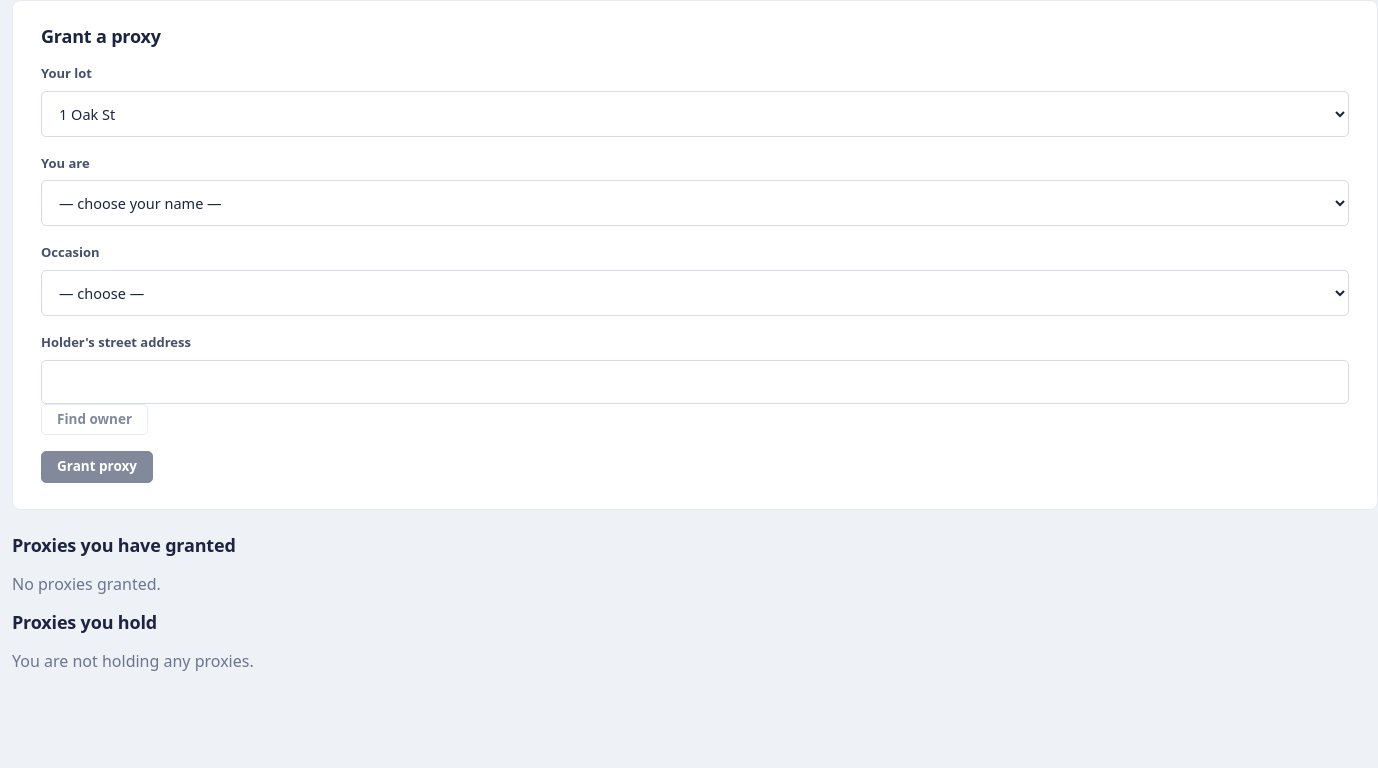
Test case: ProxyManager › keeps the lot selected and clears the occasion after a successful grant
Select "1 Oak St" in the dropdown labelled "Your lot" at (695, 114), box [41,91,1349,137]
Select "Jane Doe" in the dropdown labelled "You are" at (695, 203), box [41,180,1349,226]
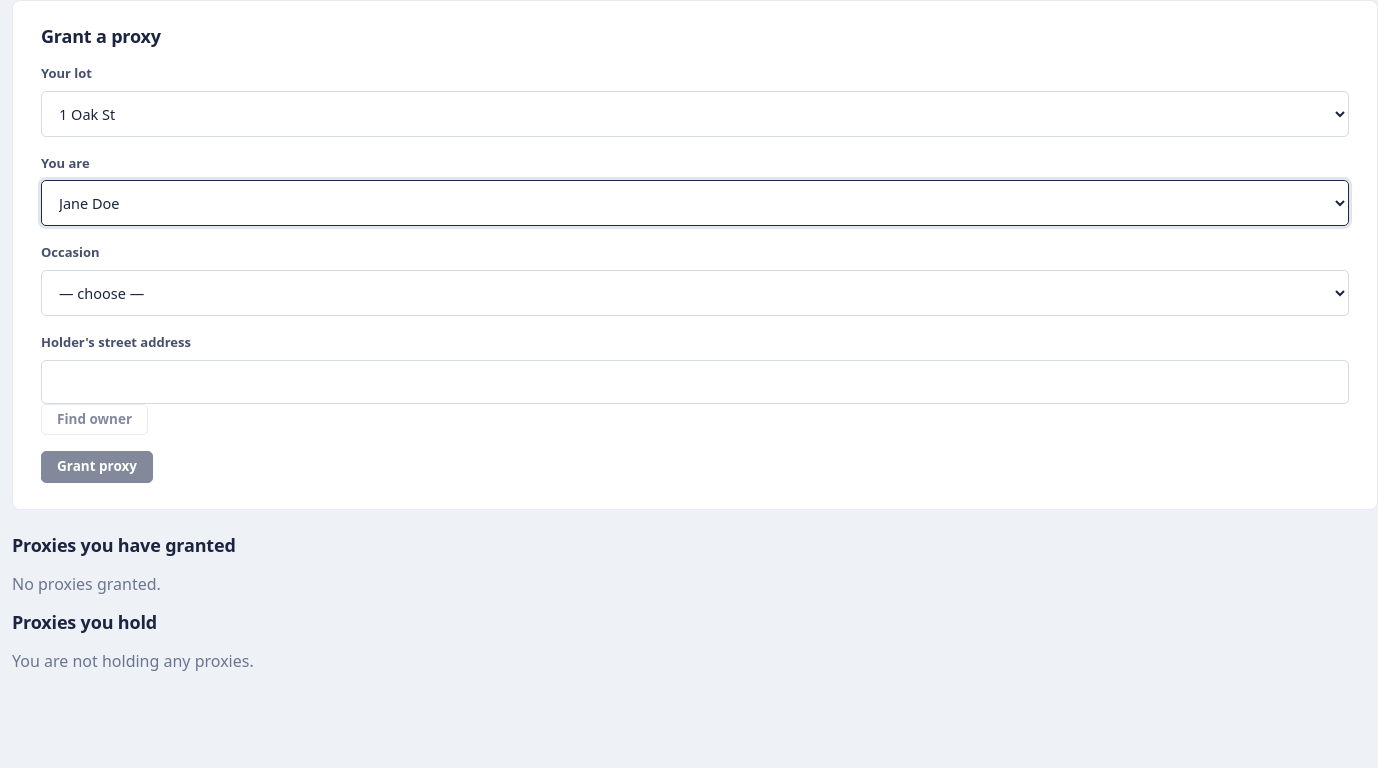
Select "2026-09-01 — Annual meeting" in the dropdown labelled "Occasion" at (695, 293), box [41,270,1349,316]
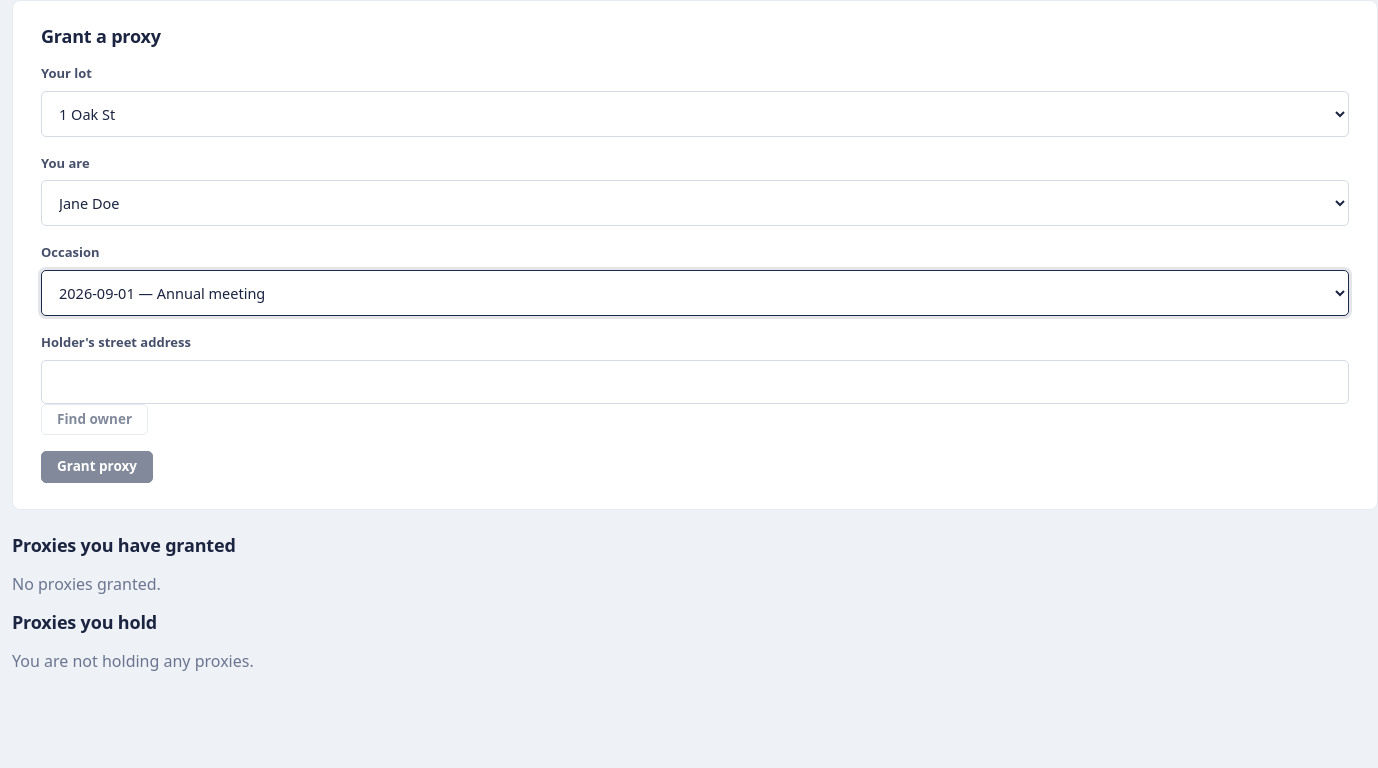
Type "2 Oak St" into the field labelled "Holder's street address".
click(695, 382); type("2 Oak St")  # box [41,360,1349,404]
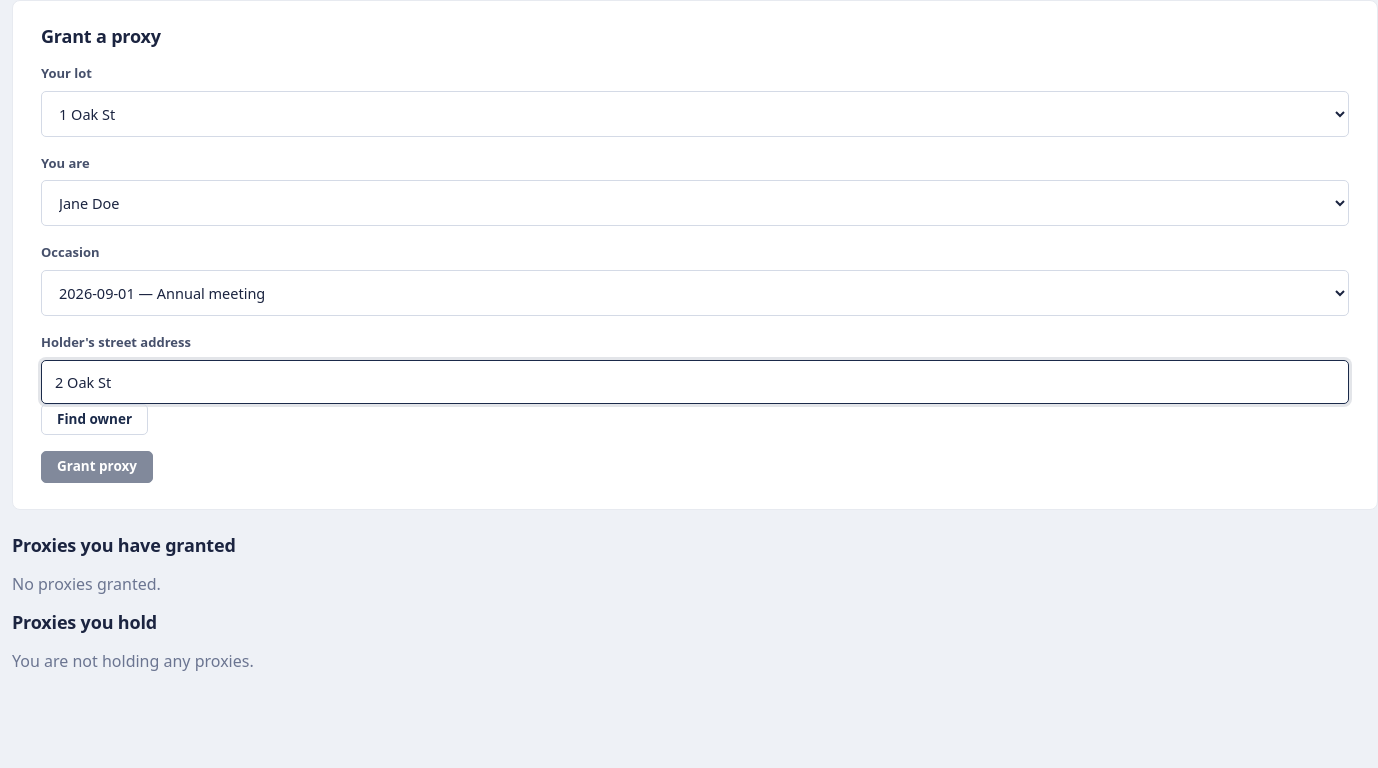
Click the button "Find owner".
click(95, 420)  # box [41,404,148,436]
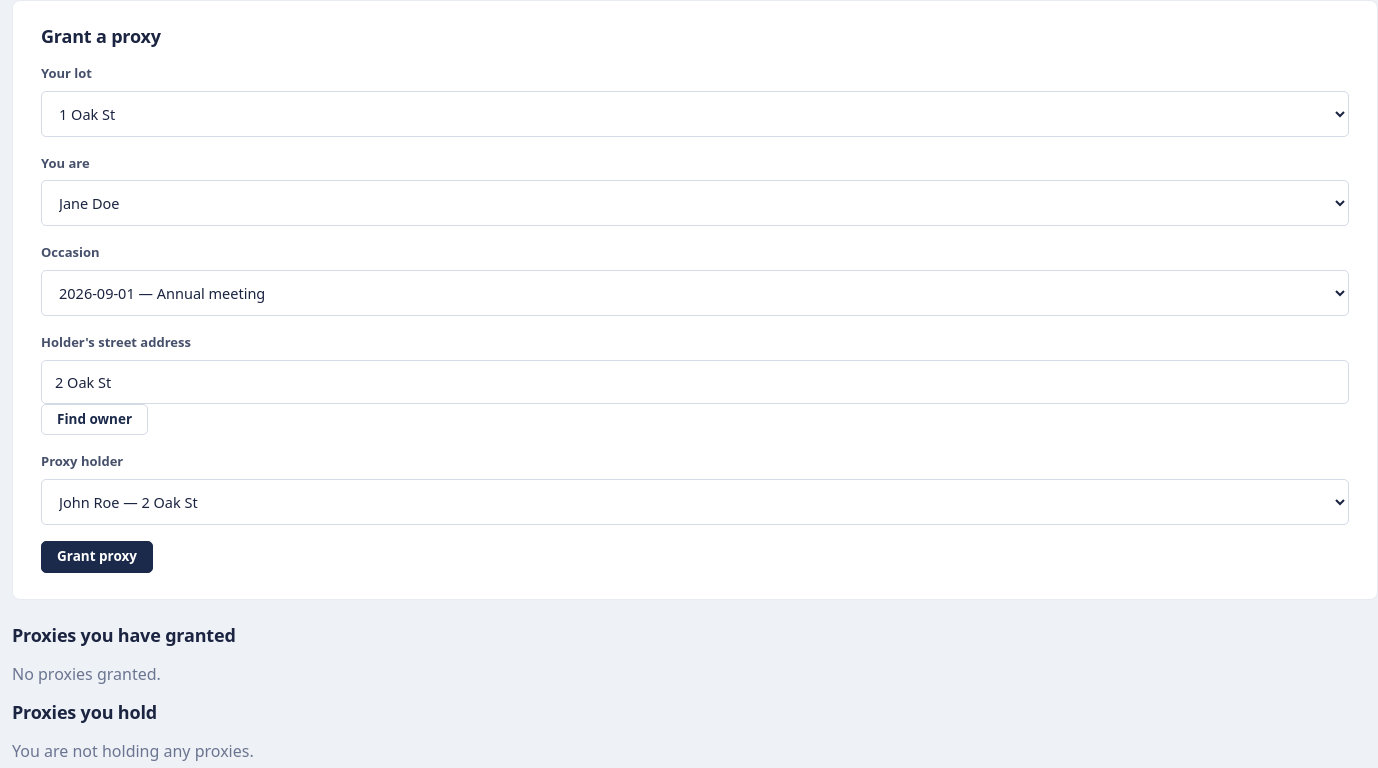
Select "John Roe — 2 Oak St" in the dropdown labelled "Proxy holder" at (695, 502), box [41,479,1349,525]
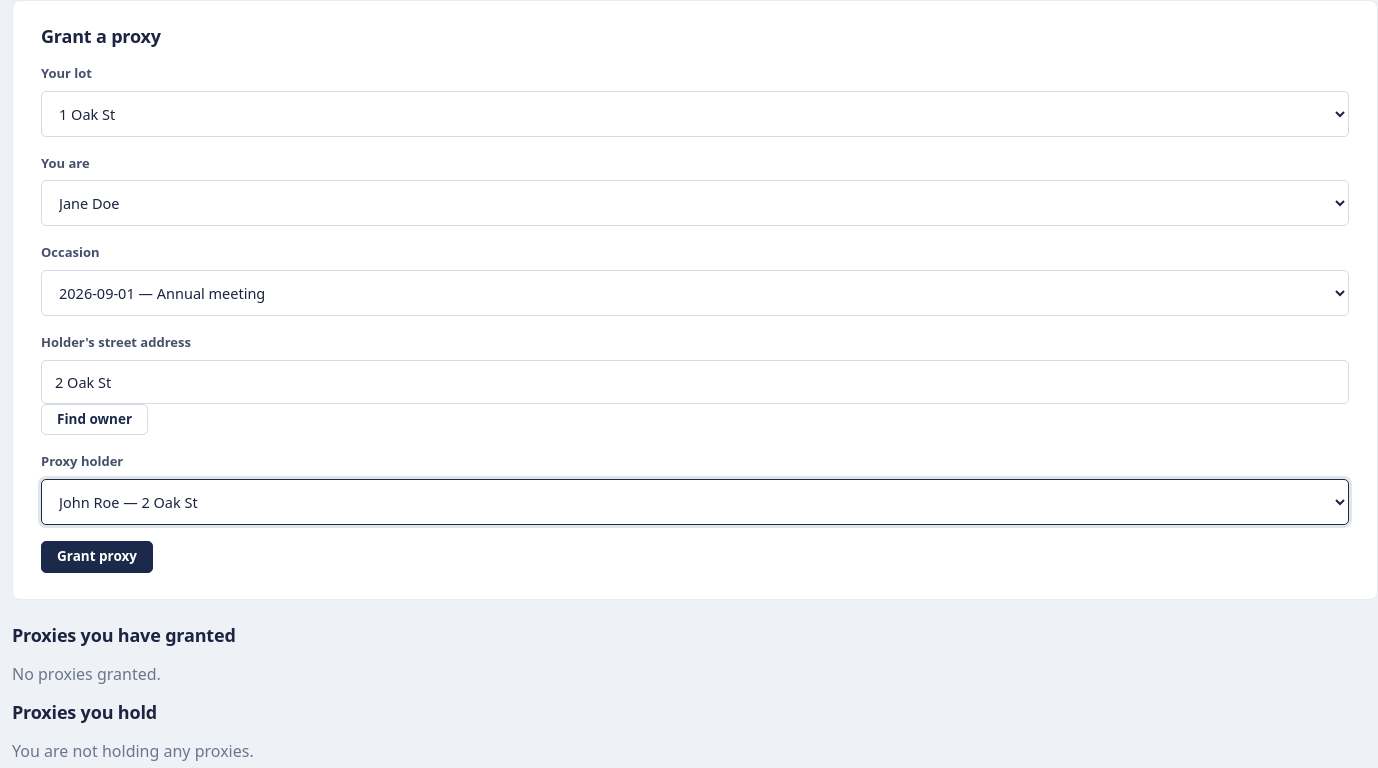
Click the button "Grant proxy".
click(97, 557)  # box [41,541,153,573]
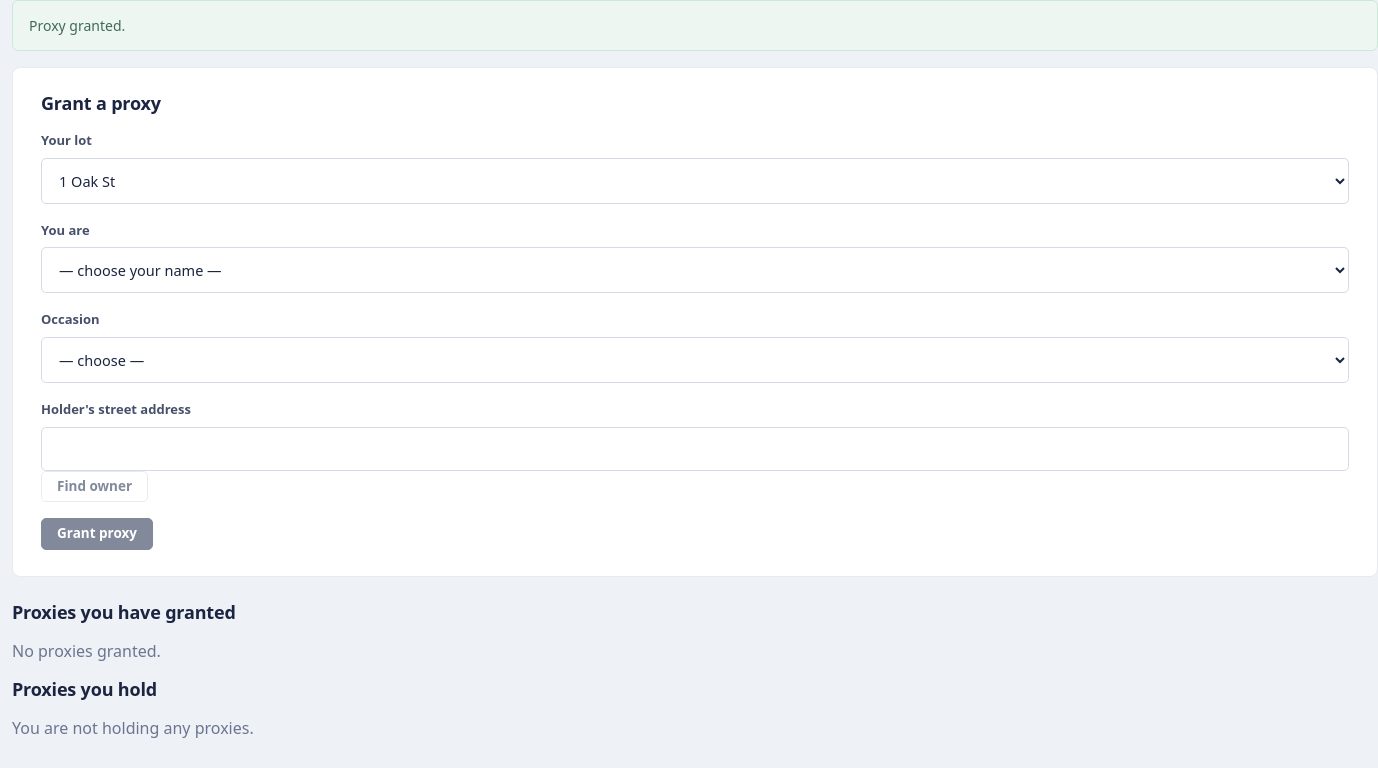
Result: the text "Proxy granted." is shown at [12,0,1377,51]
